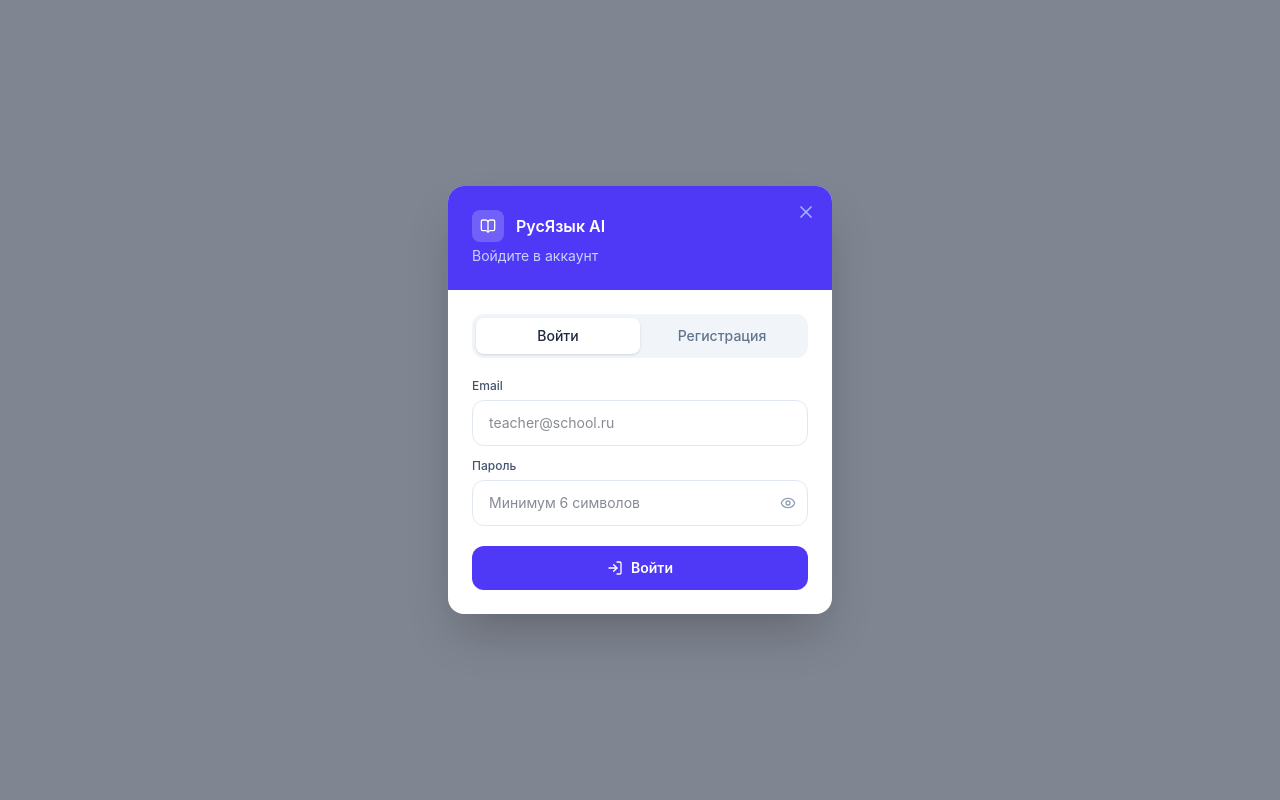
AuthModal — валидация › сбрасывает ошибку при смене вкладки
Click the 2nd button "Войти" at x=640, y=568, box [472,546,808,590]
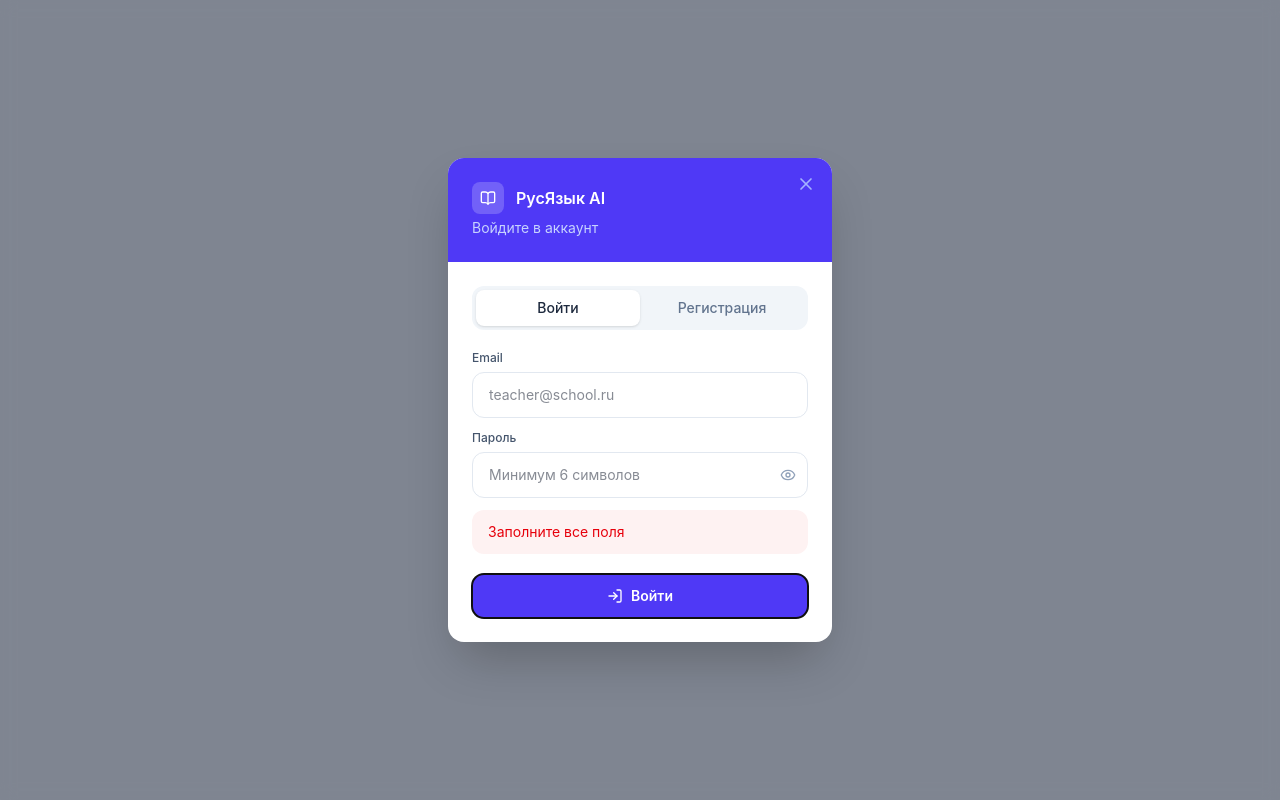
Check: the text "Заполните все поля" is shown, box [472,510,808,554]
Click the button "Регистрация" at x=722, y=308, box [640,290,804,326]
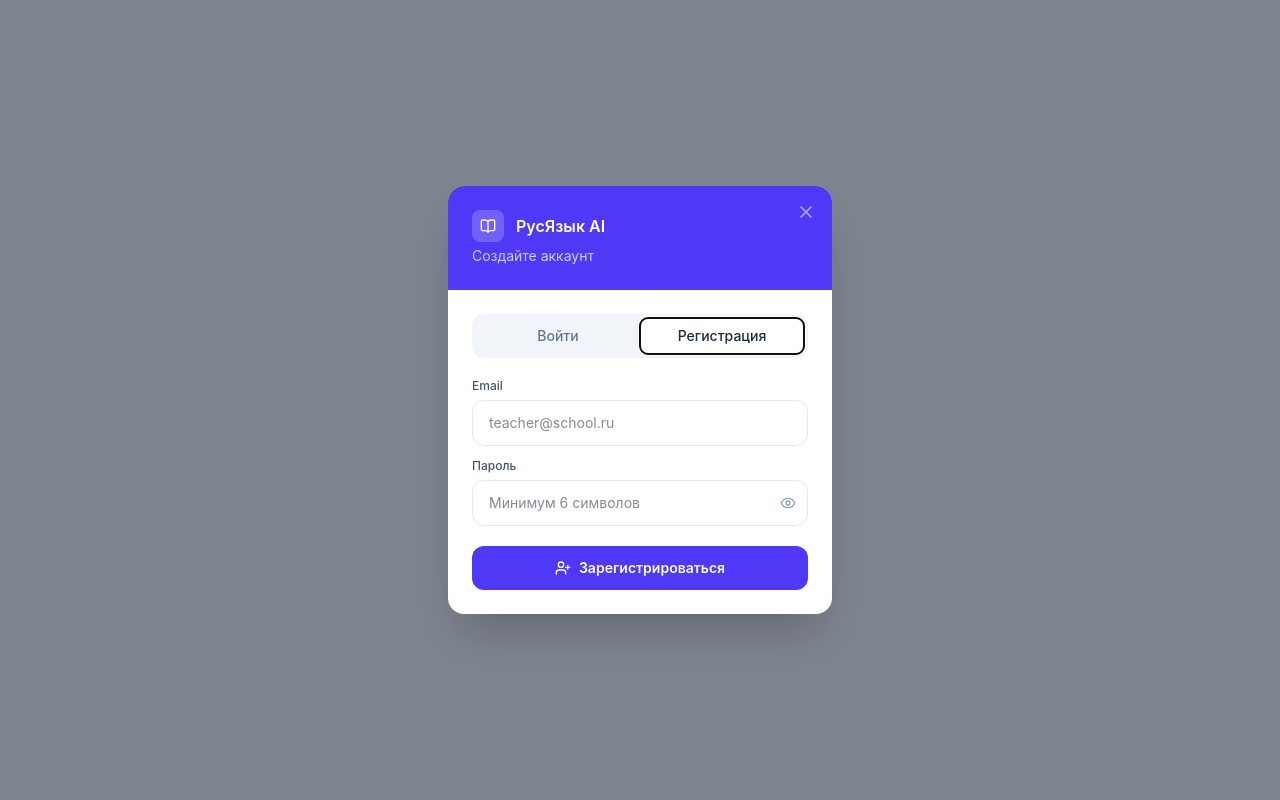
Check: the text "Заполните все поля" is gone
